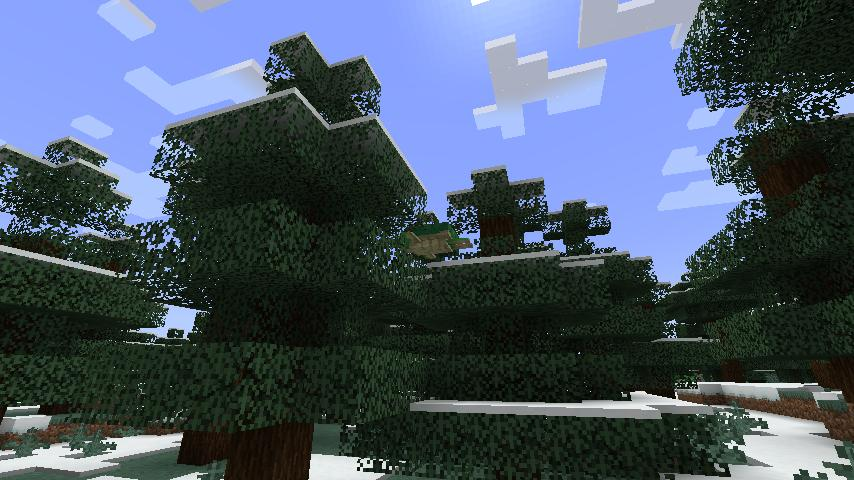turtle: (395, 219, 476, 262)
